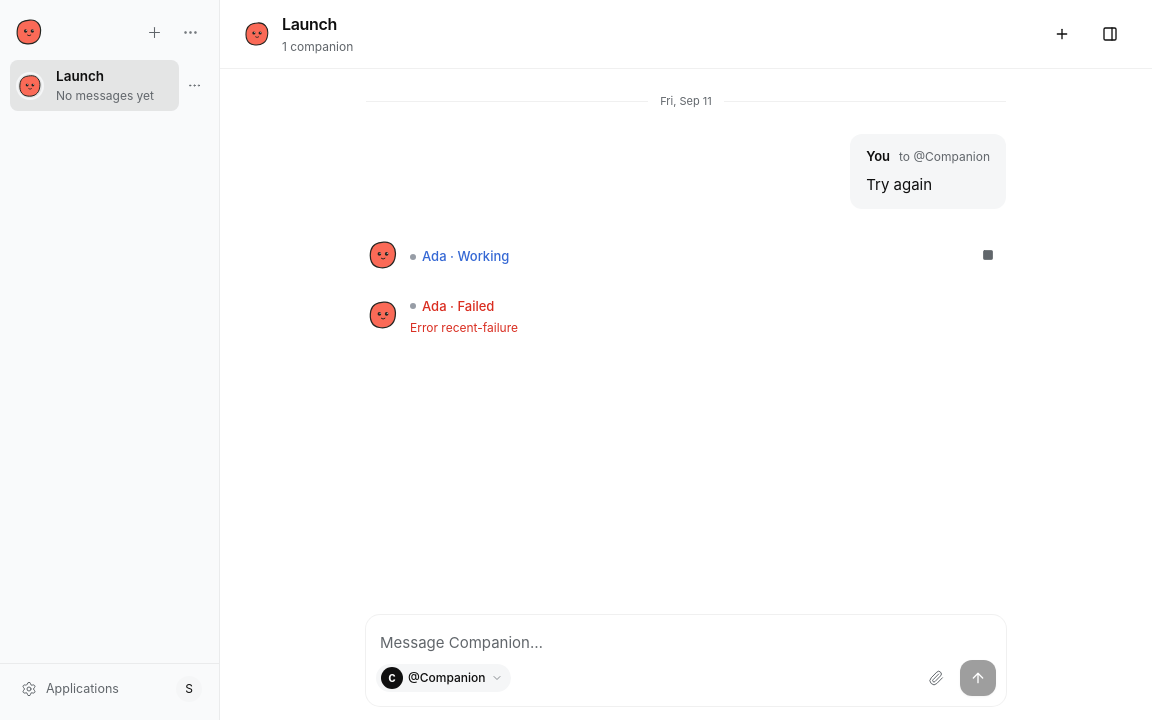
it: keeps only current failures in the thread and leaves earlier ones to the workbench
Expected: the text "Error recent-failure" is shown, [410, 320, 518, 335]
Expected: the text "Error old-failure" is not shown
Click the button named "Open Ada workspace" next to "Ada · Working" at (383, 255), box [366, 238, 400, 272]
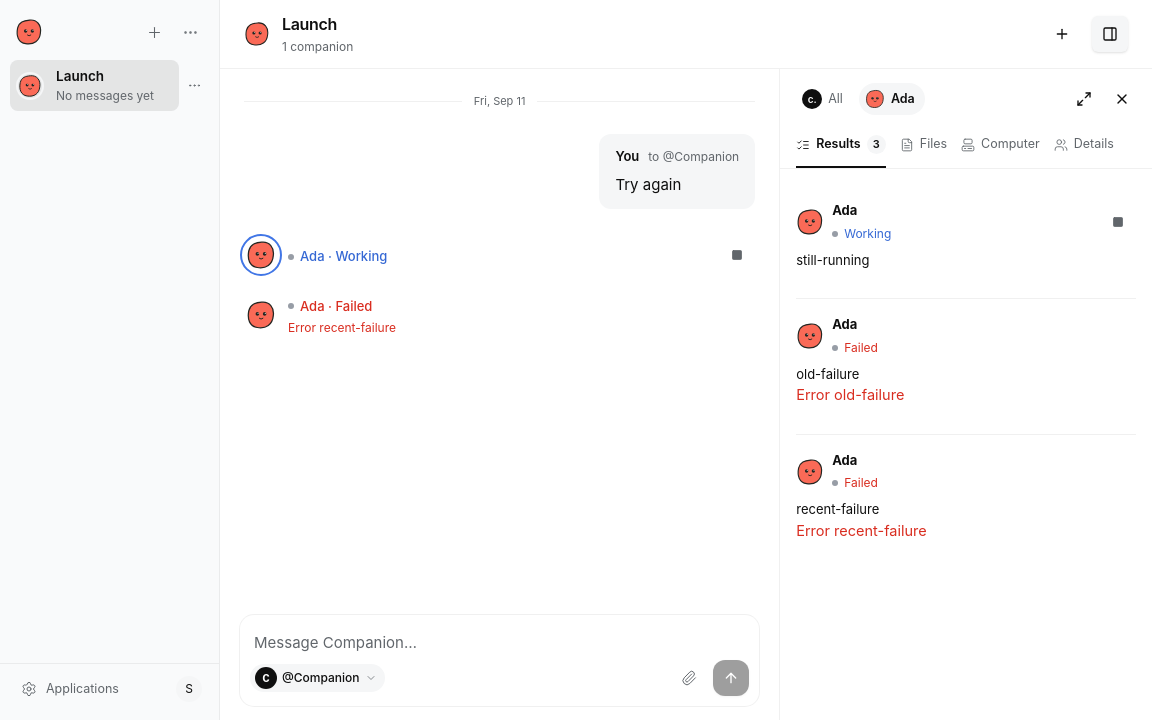
Now the text "Error old-failure" is shown, box [796, 386, 904, 403]
